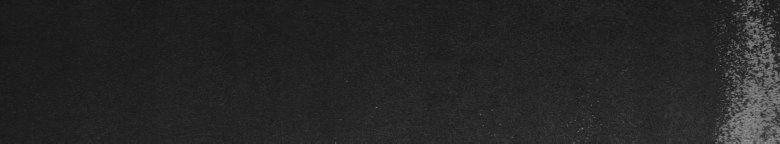kb: (732, 4, 776, 136)
